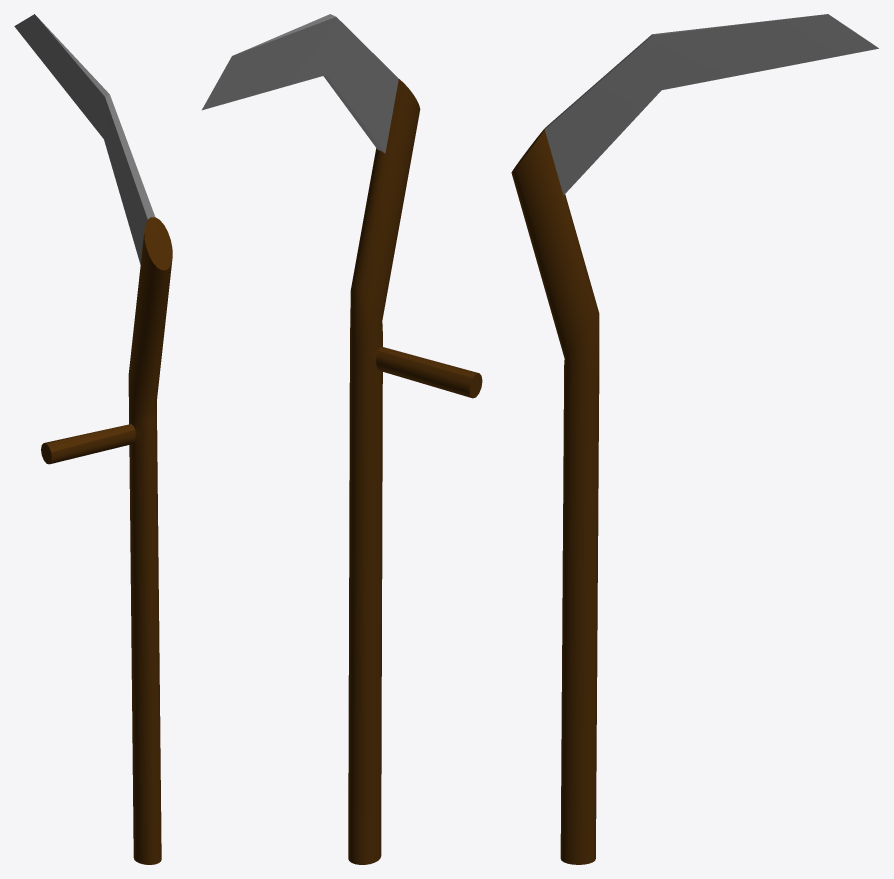
The model's file is Scythe.fbx.
3 renders of one model, left to right at view 1: azimuth 30°, elevation 25°; view 2: azimuth 150°, elevation 25°; view 3: azimuth 270°, elevation 25°, orthographic. The views are drawn at different scales.
Parts seen in each view (by area): view 1: ScytheMesh; view 2: ScytheMesh; view 3: ScytheMesh.
Boxes of the visible parts, left/top/right/bottom form: ScytheMesh: left=14, top=14, right=172, bottom=864; ScytheMesh: left=201, top=14, right=482, bottom=864; ScytheMesh: left=511, top=14, right=878, bottom=864.
Size of the model in its own units: 27.32 by 182 by 71.88.
